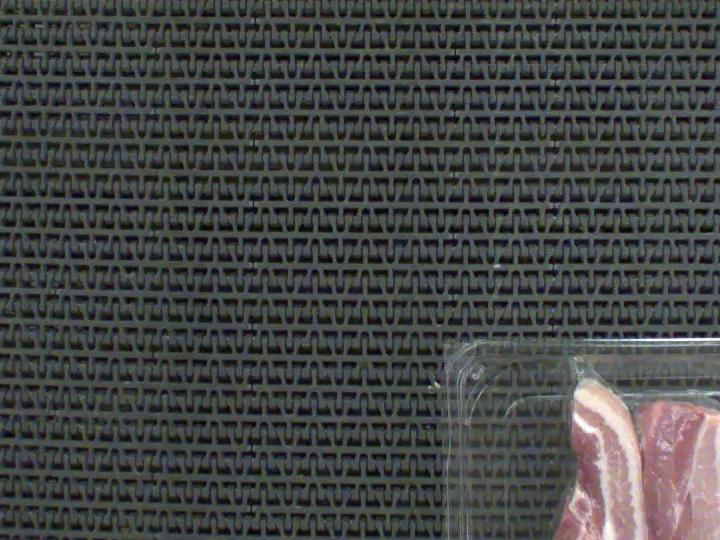unsealed: (555, 356, 720, 540)
